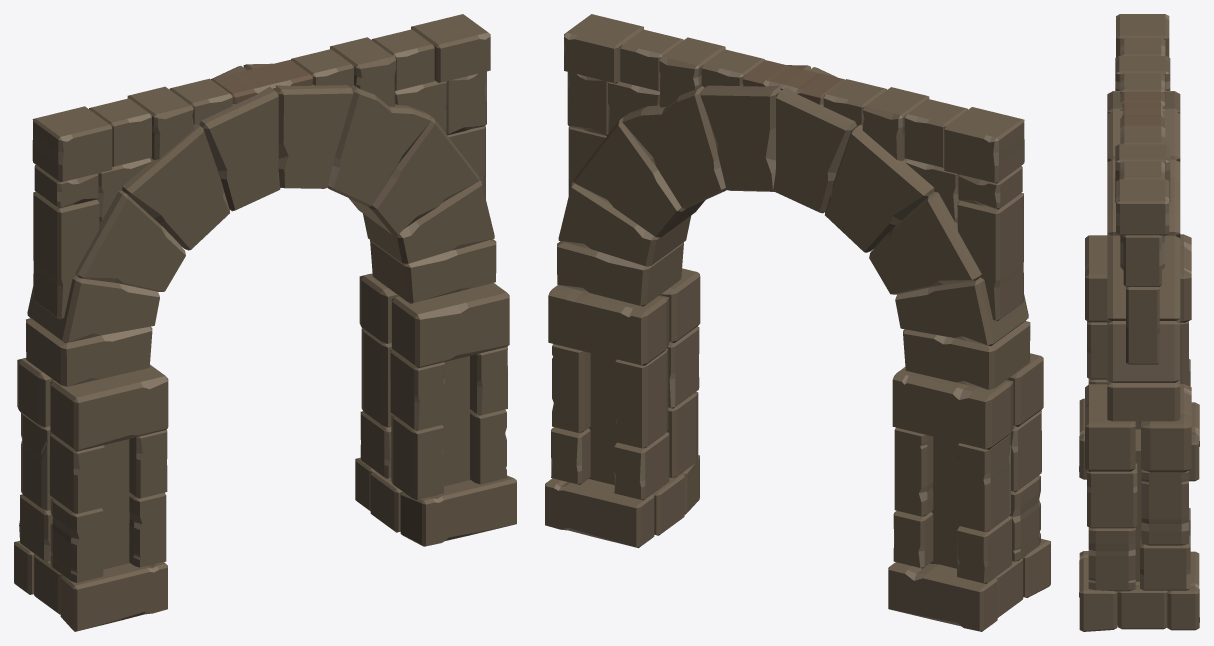
File: final_arch_lev3.glb
The picture shows the model from 3 angles, left to right: view 1: azimuth 30°, elevation 25°; view 2: azimuth 150°, elevation 25°; view 3: azimuth 270°, elevation 25°; orthographic projection. The views are drawn at different scales.
Parts seen in each view (by area): view 1: final_arch_lev3; view 2: final_arch_lev3; view 3: final_arch_lev3.
Part boxes in pixels (bbox=[...]): final_arch_lev3: bbox=[14, 14, 516, 631]; final_arch_lev3: bbox=[545, 14, 1050, 631]; final_arch_lev3: bbox=[1079, 14, 1199, 631].
Bounding box in the file's own units: 8.48 × 8.74 × 2.23.
